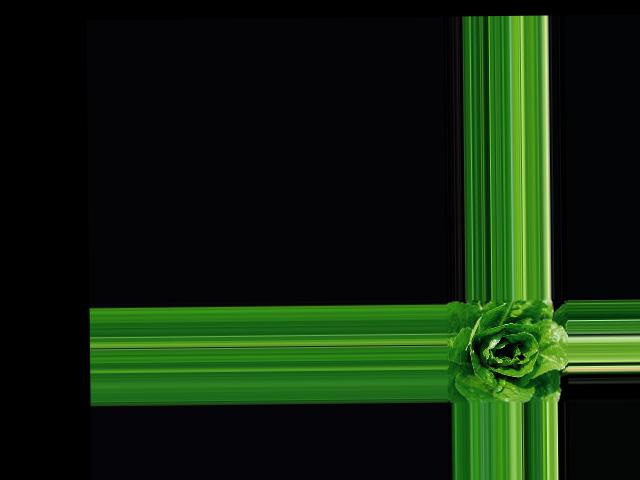lettuce: (448, 298, 563, 399)
